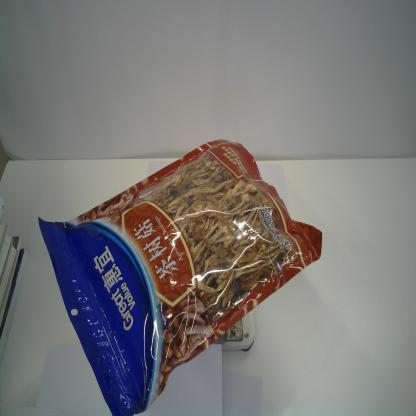Dried Food: (38, 138, 323, 416)
